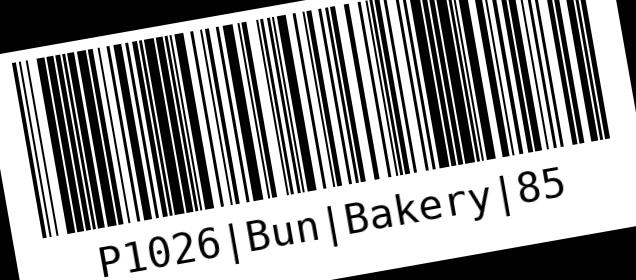milk: (5, 0, 634, 279)
